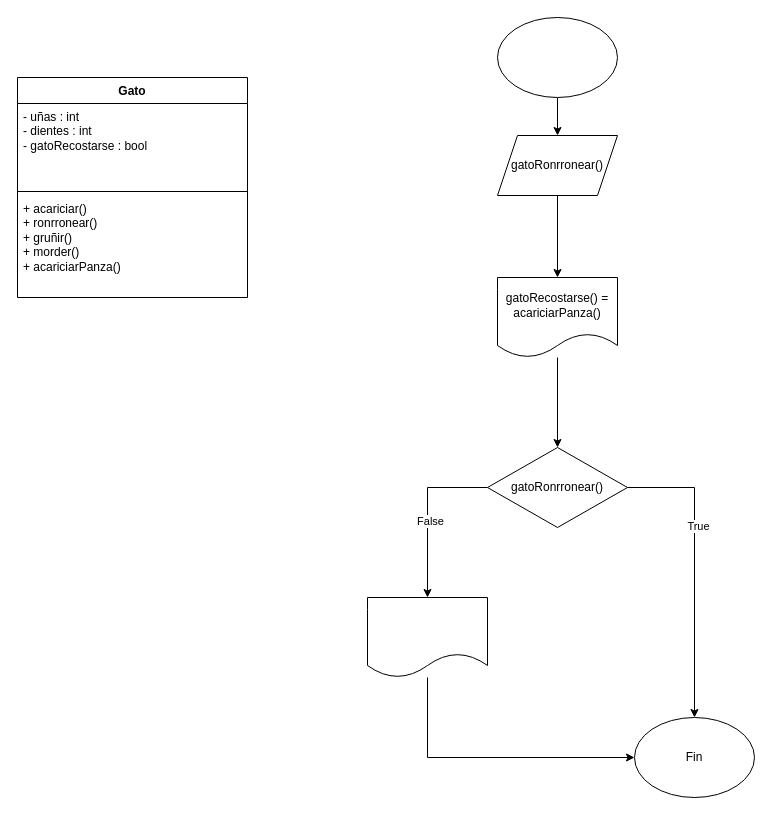
Image size: 772x815. Some labels were removed from this diagram. The box of each missing label's shape, as (x1, y1, x2, y2) in pixels:
acariciar(): (496, 16, 618, 98)
gatoMuerde = recibirDaño: (366, 596, 488, 678)
